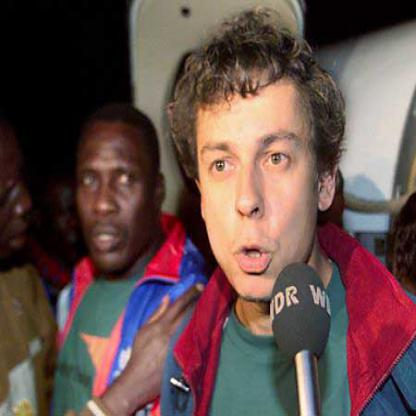face: (197, 39, 320, 306), (76, 106, 157, 274)
